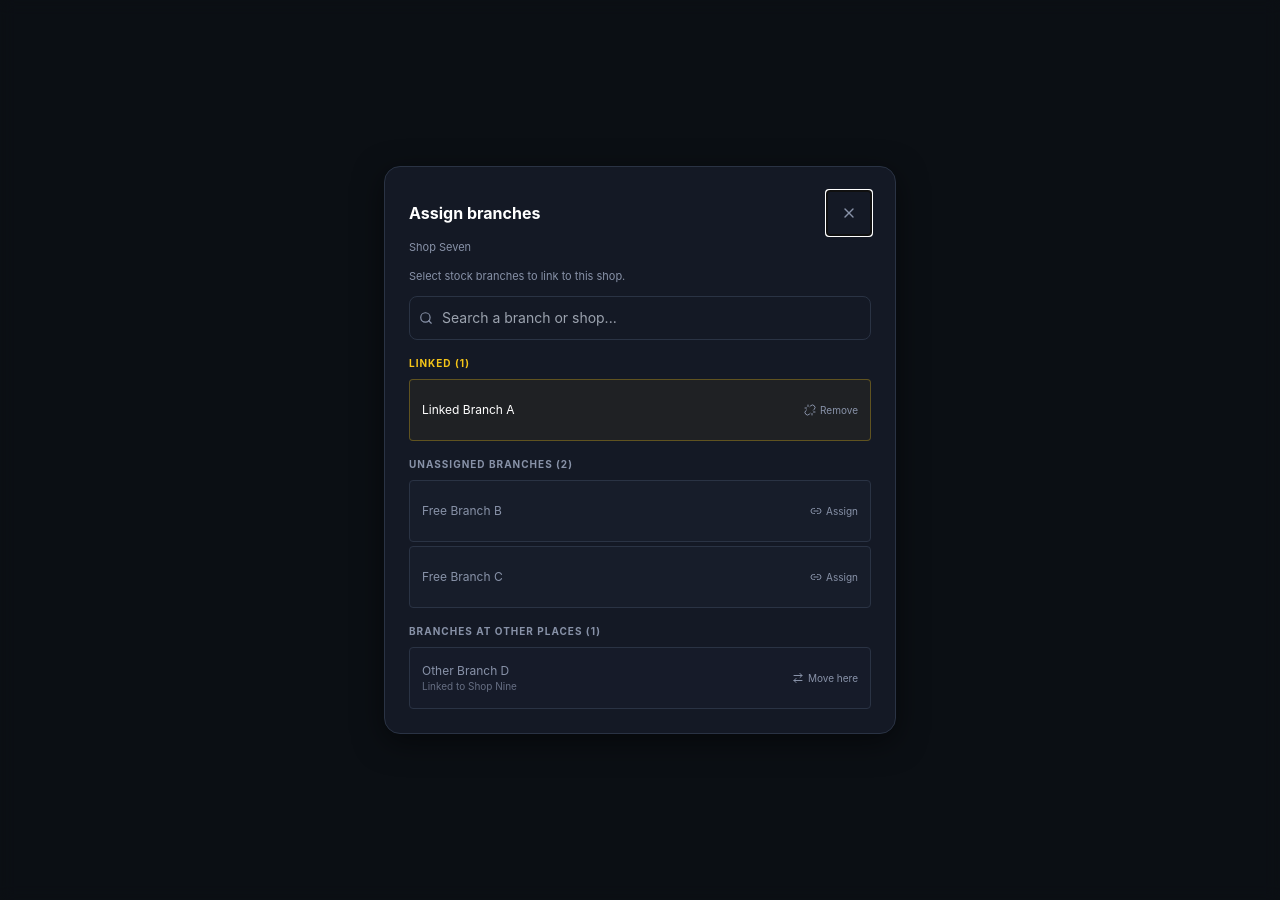
it: AssignProviderDialog branches › surfaces an error when unlinking a branch fails
Expected: the text "Free Branch B" is shown, [422, 503, 502, 519]
Click the button "Remove". click: [831, 410]
box: [804, 388, 858, 432]
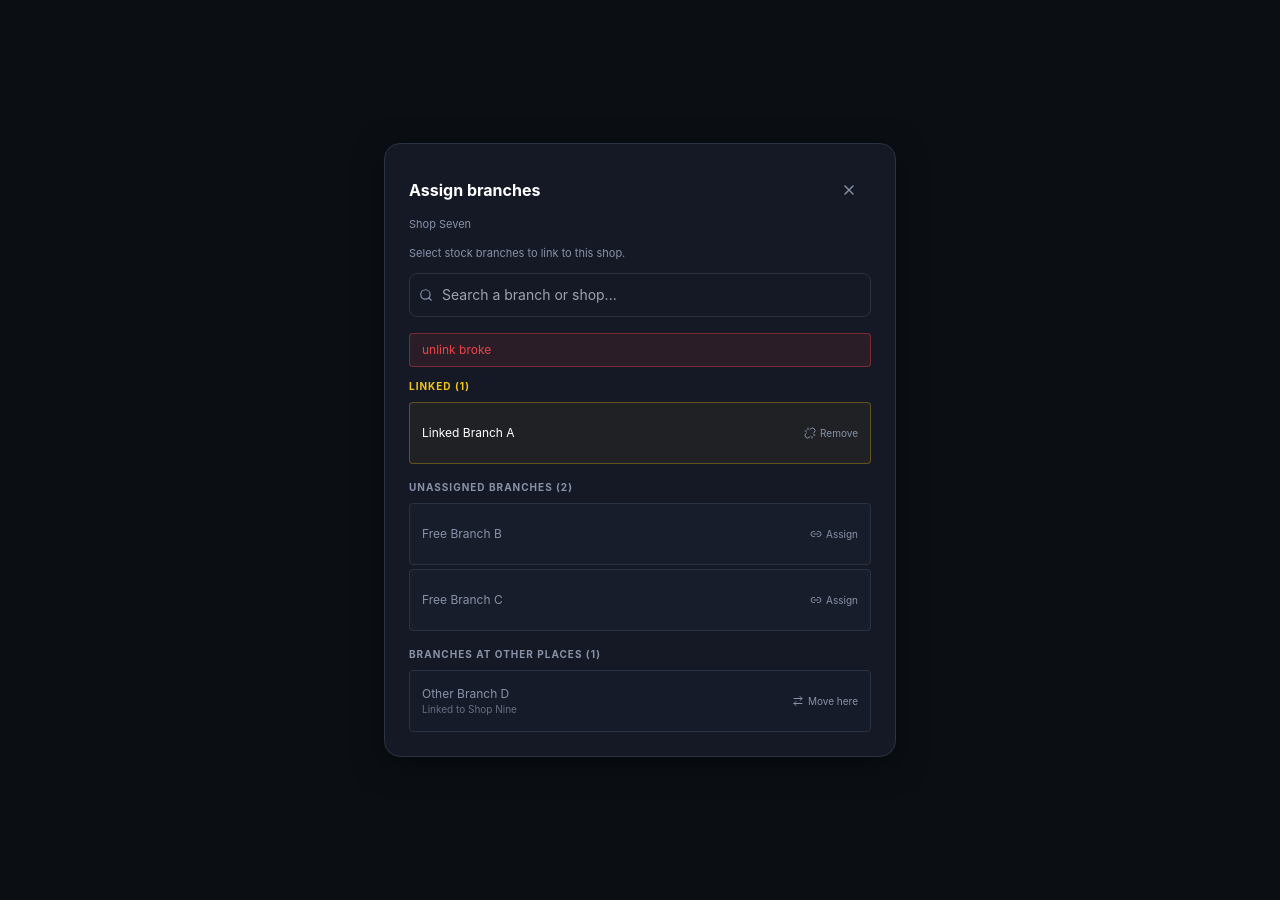
Result: the message reads "unlink broke" at [422, 342, 491, 357]
